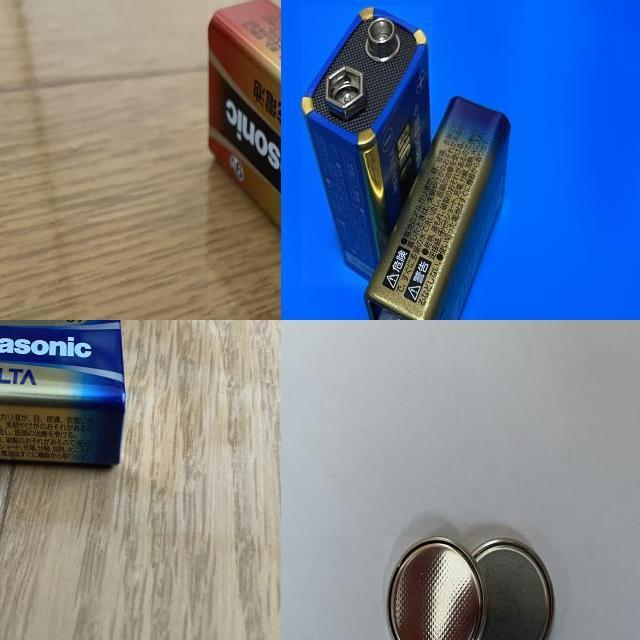9V: (301, 6, 432, 287), (364, 96, 512, 320), (208, 0, 281, 313), (0, 320, 126, 468)
